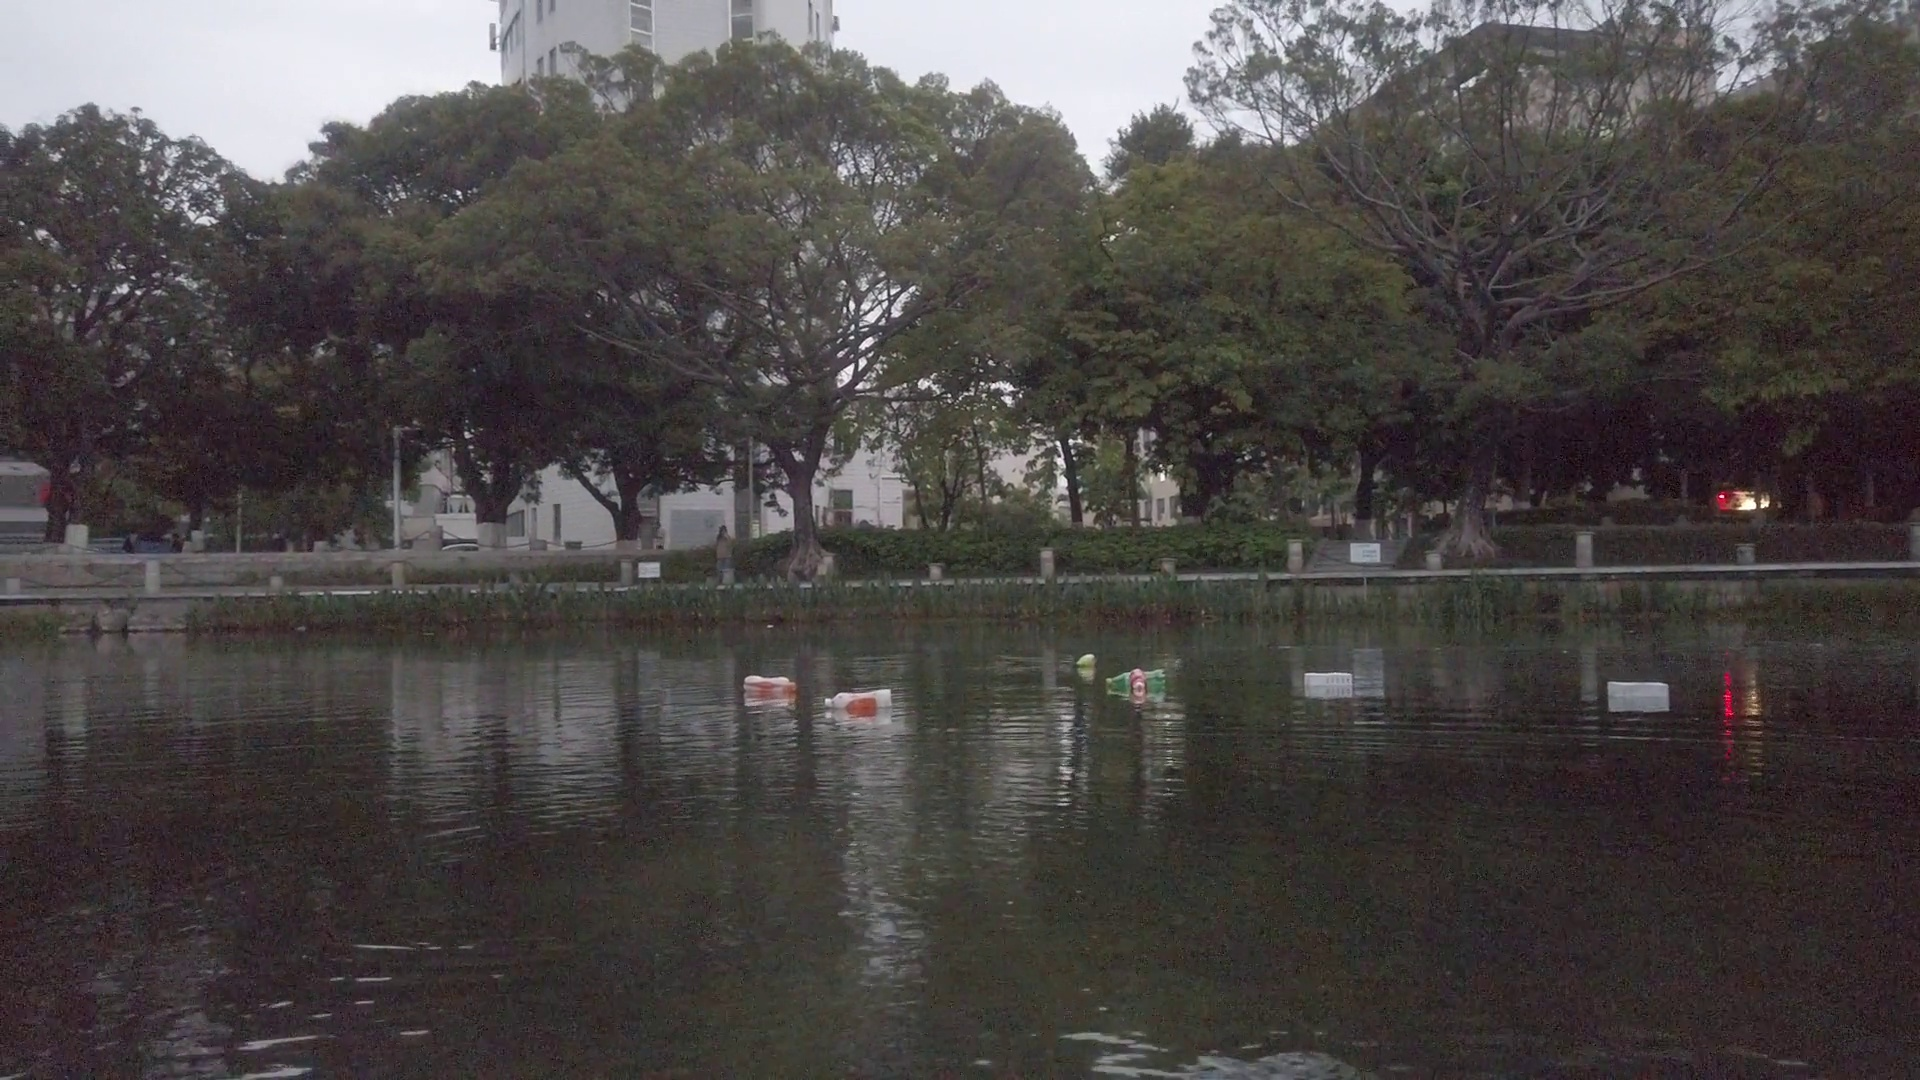bottle: (823, 688, 890, 709), (1106, 669, 1166, 691), (741, 673, 799, 694), (1129, 670, 1147, 698), (1075, 651, 1096, 673)
carton: (1607, 680, 1669, 703), (1304, 673, 1353, 687)
